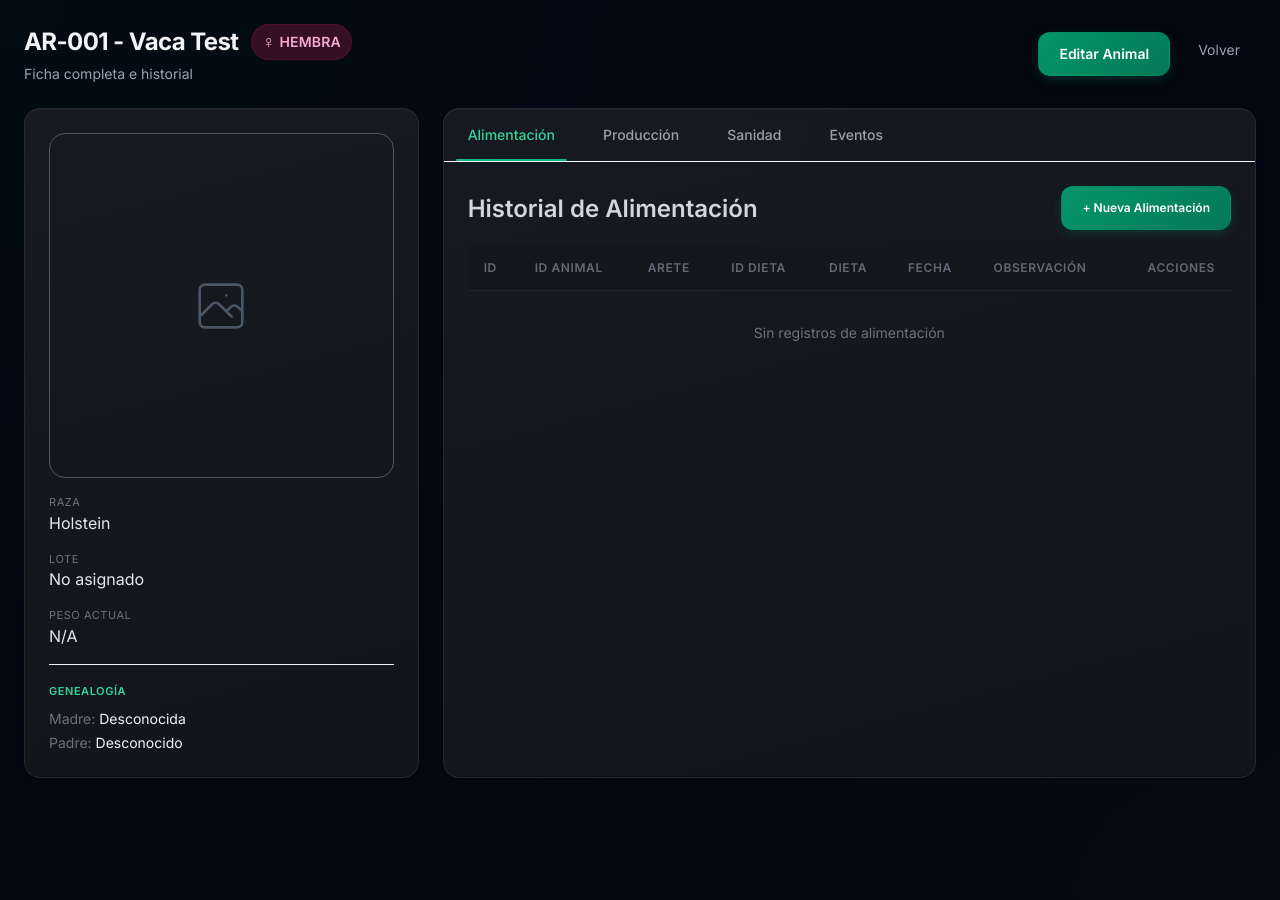
Test: GanadoDetail - Botones Añadir Registro › renderiza botón "Añadir Evento" en tab Eventos
This screenshot has width=1280, height=900.
Expected: the heading "AR-001 - Vaca Test ♀ HEMBRA" is shown, [24,24,352,60]
Click Eventos tab
Step 1. Click the button "Eventos" → x=856, y=135, box [805,109,907,161]
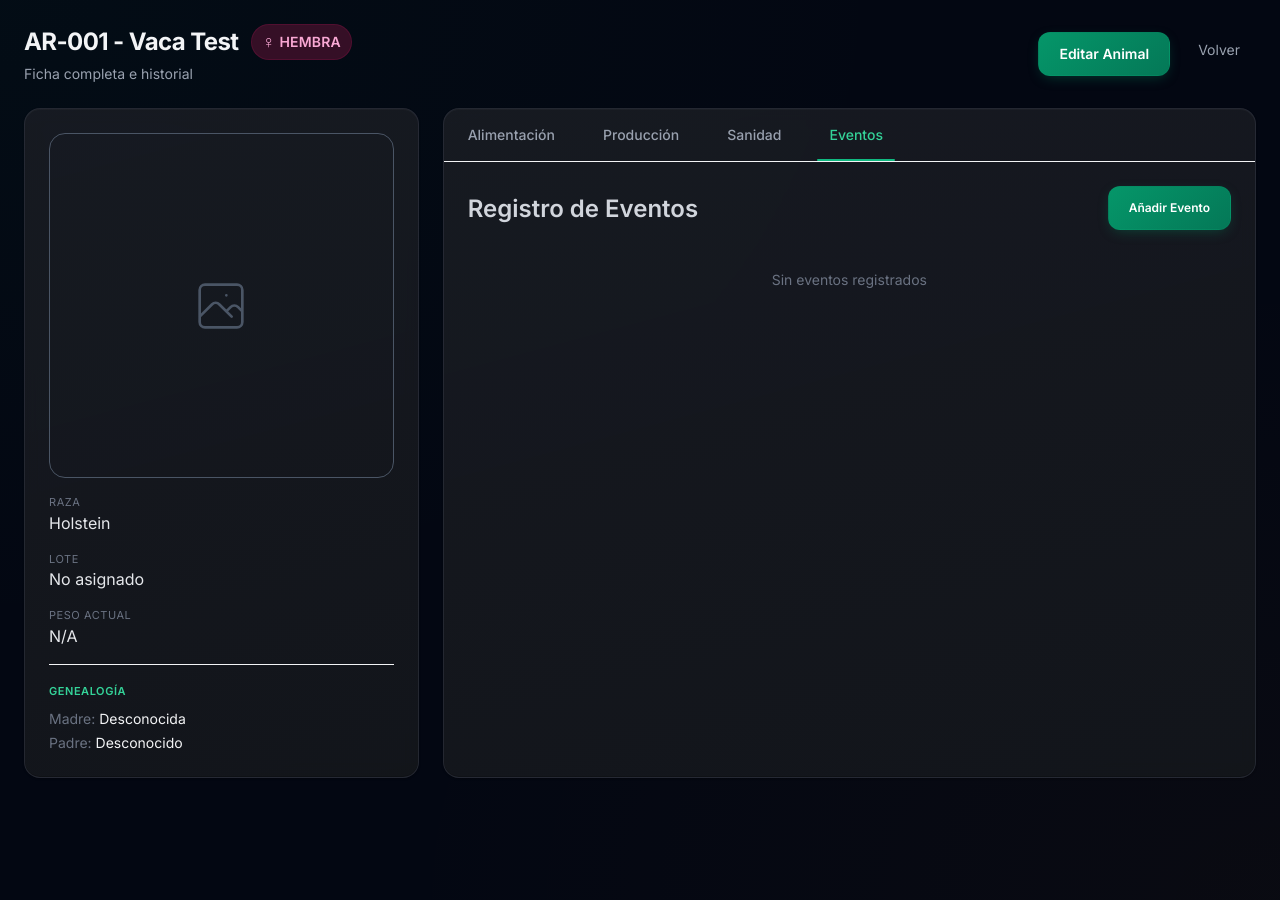
Result: the button "Añadir Evento" is shown at [1108,186,1231,230]
